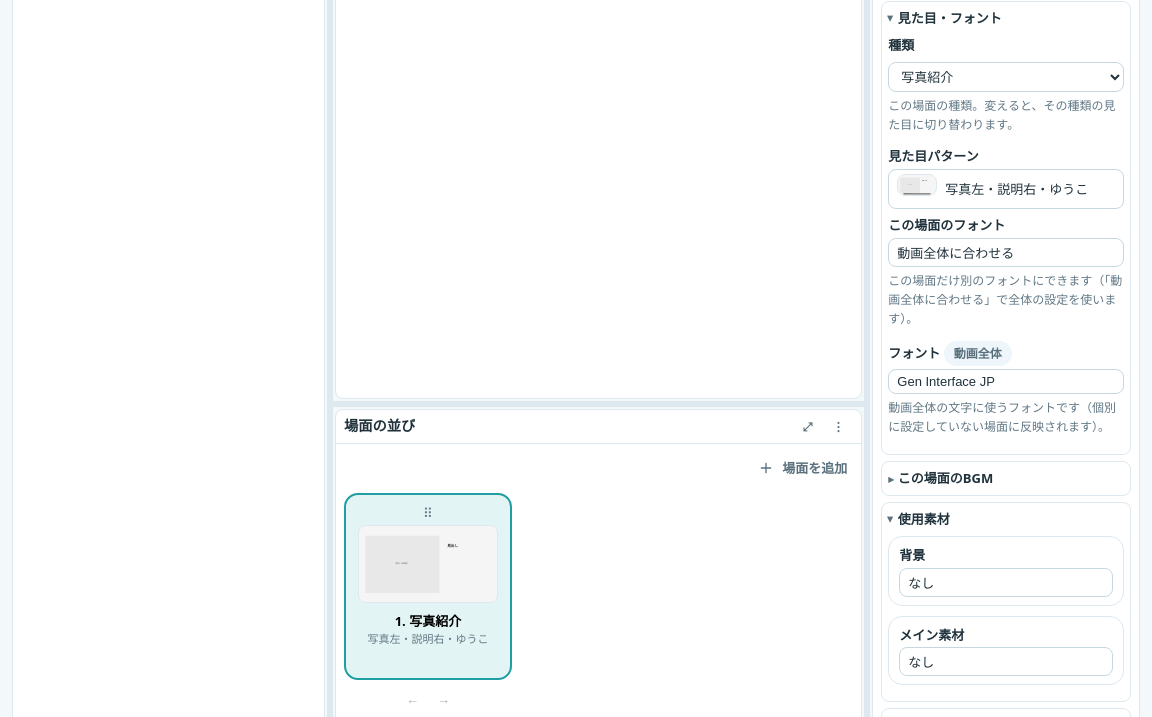
Test: 見た目パターンを見て選ぶ（#1031） › 押すと、候補が見本の絵つきで並ぶ
The width and height of the screenshot is (1152, 717).
(page scrolled)
Expected: the label "見た目パターン" is shown, [888,147,979,165]
Click the button "素材（未設定） 見出しの例 字幕の例文がここに入ります 写真左・説明右・ゆうこ": {"x": 1006, "y": 189} [888,169,1124,209]
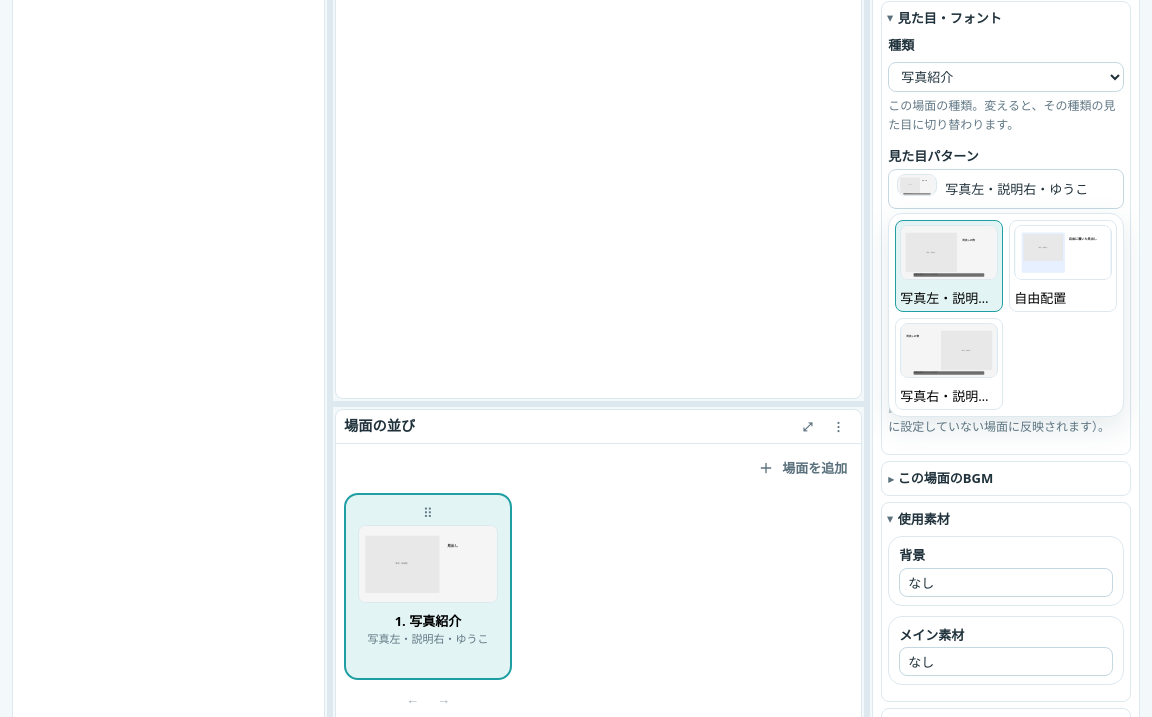
Expected: the 1st icon "素材（未設定） 見出しの例 字幕の例文がここに入ります" is shown, [901,226,997,279]
Expected: the icon "素材（未設定） 自由に置いた見出し" is shown, [1015,226,1111,279]
Expected: the 2nd icon "素材（未設定） 見出しの例 字幕の例文がここに入ります" is shown, [901,324,997,377]
